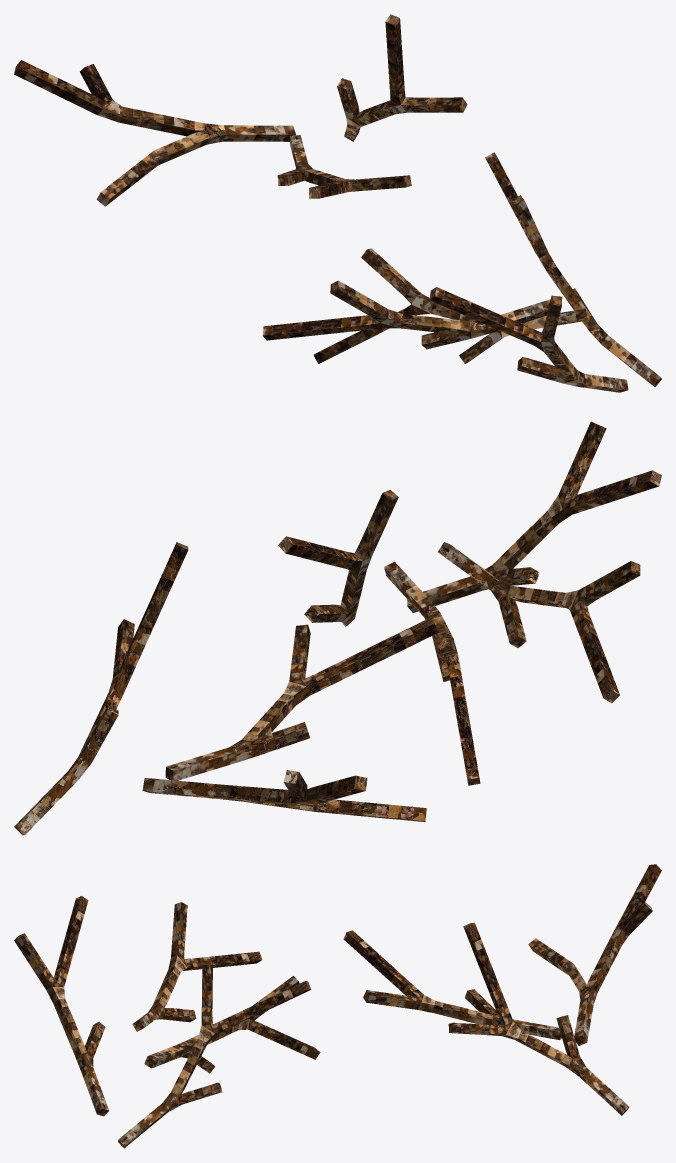
Rendered from Flashback_02_branches.glb.
The picture shows the model from 3 angles, top to bottom: view 1: azimuth 30°, elevation 25°; view 2: azimuth 150°, elevation 25°; view 3: azimuth 270°, elevation 25°; orthographic projection. The views are drawn at different scales.
Visible parts, largest first — view 1: branches.005, branches.008, branches.009, branches.011, branches.007, branches.010, branches.004; view 2: branches.004, branches.009, branches.008, branches.005, branches.011, branches.010, branches.007; view 3: branches.011, branches.009, branches.010, branches.004, branches.005, branches.008, branches.007.
Part boxes in pixels (x1=…): branches.005: x1=14, y1=60, x2=295, y2=206; branches.008: x1=262, y1=280, x2=550, y2=349; branches.009: x1=429, y1=287, x2=628, y2=392; branches.011: x1=337, y1=14, x2=467, y2=141; branches.007: x1=313, y1=248, x2=587, y2=363; branches.010: x1=485, y1=152, x2=661, y2=387; branches.004: x1=277, y1=135, x2=411, y2=198; branches.004: x1=165, y1=617, x2=438, y2=780; branches.009: x1=407, y1=421, x2=661, y2=612; branches.008: x1=438, y1=542, x2=640, y2=703; branches.005: x1=142, y1=770, x2=426, y2=821; branches.011: x1=14, y1=542, x2=188, y2=835; branches.010: x1=278, y1=490, x2=398, y2=626; branches.007: x1=384, y1=561, x2=480, y2=785; branches.011: x1=448, y1=922, x2=629, y2=1115; branches.009: x1=14, y1=896, x2=109, y2=1116; branches.010: x1=118, y1=964, x2=311, y2=1148; branches.004: x1=343, y1=930, x2=561, y2=1040; branches.005: x1=528, y1=864, x2=661, y2=1045; branches.008: x1=132, y1=902, x2=262, y2=1031; branches.007: x1=144, y1=976, x2=320, y2=1073.
Bounding box in the file's own units: 4.59 × 3.13 × 9.
1 material, 1 textured.
